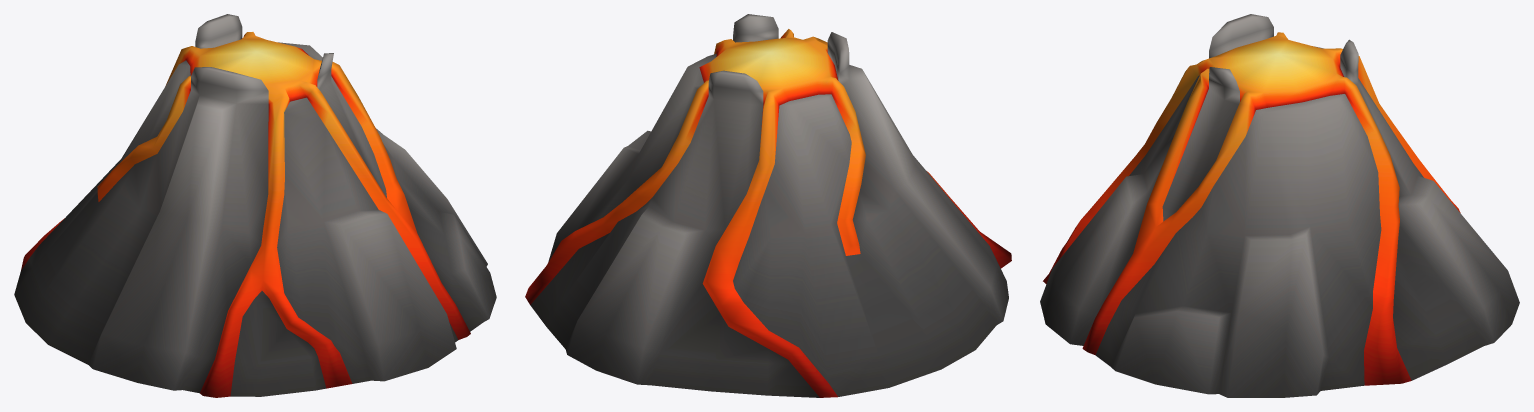
The model's file is m_Volcano03_A.fbx.
The picture shows the model from 3 angles, left to right: view 1: azimuth 30°, elevation 25°; view 2: azimuth 150°, elevation 25°; view 3: azimuth 270°, elevation 25°; orthographic projection.
Visible parts, largest first — view 1: m_Volcano03_A; view 2: m_Volcano03_A; view 3: m_Volcano03_A.
Boxes of the visible parts, bbox=[...] form: m_Volcano03_A: bbox=[14, 14, 496, 397]; m_Volcano03_A: bbox=[525, 14, 1011, 397]; m_Volcano03_A: bbox=[1040, 14, 1519, 397].
Bounding box in the file's own units: 2111 × 1235 × 2131.
